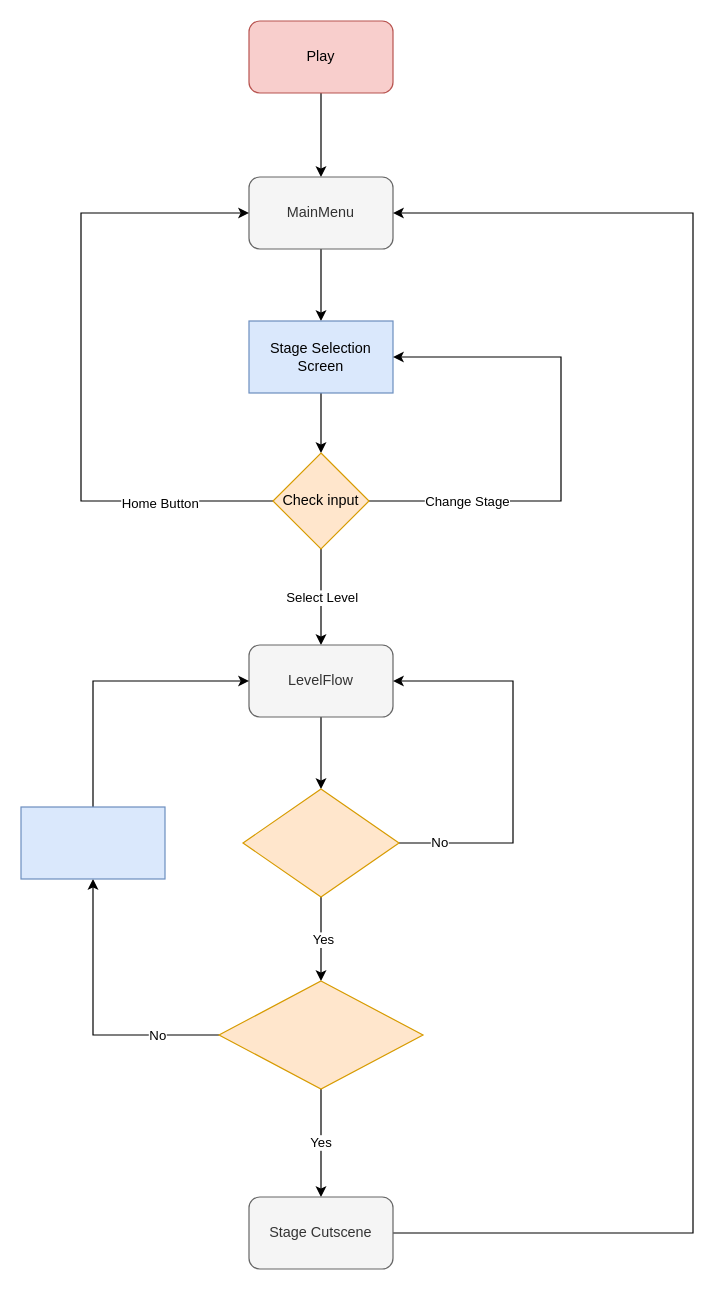
This 724x1290 diagram has some shape labels left out. The shapes that lost their labels are listed below. From the top down, each one's centre as x and y in pixels, then its label:
(x=92, y=842): Next level starts
(x=320, y=842): Does the player complete the level?
(x=320, y=1034): Did the player complete all eight levels of that stage?
